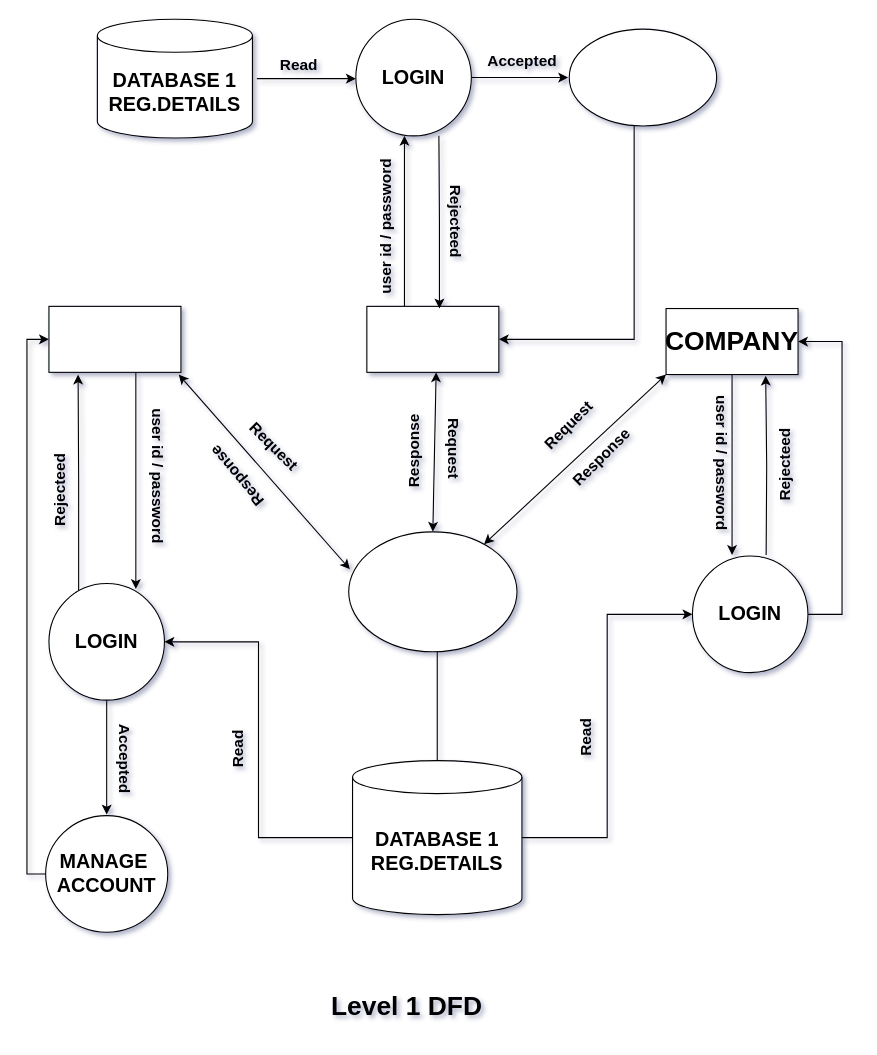
This 877x1055 diagram has some shape labels left out. Here are the shapes that lost their labels. From the top down, the centre of each, then its label:
At [642,77]: "MANAGE ACCOUNTS".
At [114,338]: "STUDENT".
At [432,338]: "ADMIN".
At [432,591]: "REGISTRATION".
